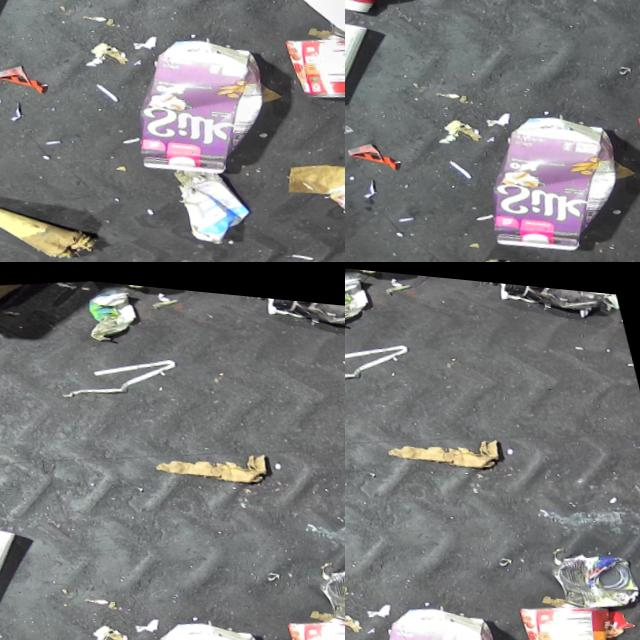can: (538, 532, 638, 605), (506, 583, 614, 640), (272, 15, 345, 97), (274, 598, 345, 640), (305, 547, 345, 620), (311, 151, 345, 234)
non_white_jug: (103, 18, 279, 180), (345, 585, 513, 640), (105, 600, 281, 640)
